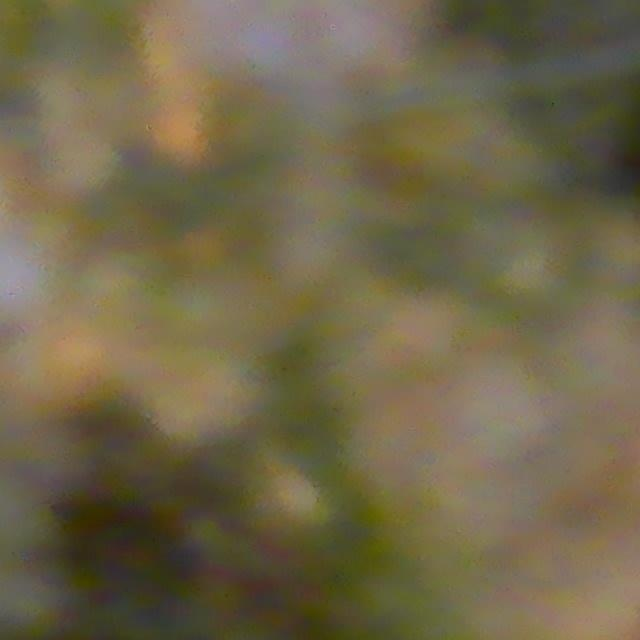SeaGrape: (239, 24, 305, 82), (0, 237, 41, 307)
